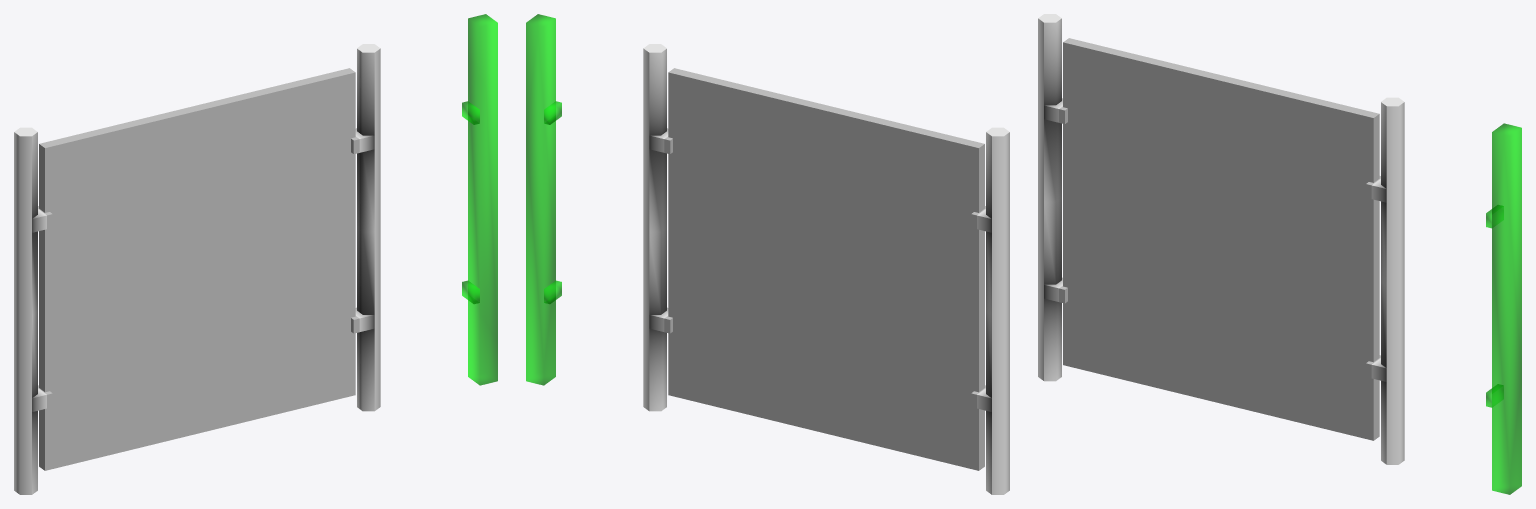
The model's file is destruct_billboard.fbx.
The picture shows the model from 3 angles, left to right: view 1: azimuth 30°, elevation 25°; view 2: azimuth 150°, elevation 25°; view 3: azimuth 330°, elevation 25°; orthographic projection.
Visible parts, largest first — view 1: destruct_billboard_sign_right, destruct_billboard_sign_left, destruct_billboard_poleCOL, destruct_billboard_pole_right, destruct_billboard_pole_left; view 2: destruct_billboard_sign_right, destruct_billboard_sign_left, destruct_billboard_poleCOL, destruct_billboard_pole_right, destruct_billboard_pole_left; view 3: destruct_billboard_sign_right, destruct_billboard_sign_left, destruct_billboard_poleCOL, destruct_billboard_pole_left, destruct_billboard_pole_right.
Part boxes in pixels (left/top/right/bottom): destruct_billboard_sign_right: left=38, top=114, right=230, bottom=470; destruct_billboard_sign_left: left=162, top=68, right=359, bottom=432; destruct_billboard_poleCOL: left=462, top=14, right=497, bottom=385; destruct_billboard_pole_right: left=14, top=127, right=46, bottom=494; destruct_billboard_pole_left: left=355, top=44, right=380, bottom=411; destruct_billboard_sign_right: left=793, top=114, right=985, bottom=470; destruct_billboard_sign_left: left=664, top=68, right=861, bottom=432; destruct_billboard_poleCOL: left=526, top=14, right=561, bottom=385; destruct_billboard_pole_right: left=977, top=127, right=1009, bottom=494; destruct_billboard_pole_left: left=643, top=44, right=668, bottom=411; destruct_billboard_sign_right: left=1059, top=38, right=1248, bottom=402; destruct_billboard_sign_left: left=1186, top=68, right=1380, bottom=440; destruct_billboard_poleCOL: left=1486, top=123, right=1521, bottom=494; destruct_billboard_pole_left: left=1371, top=97, right=1404, bottom=464; destruct_billboard_pole_right: left=1038, top=14, right=1062, bottom=381.
Size of the model in its own units: 2.77 by 2 by 0.12.
